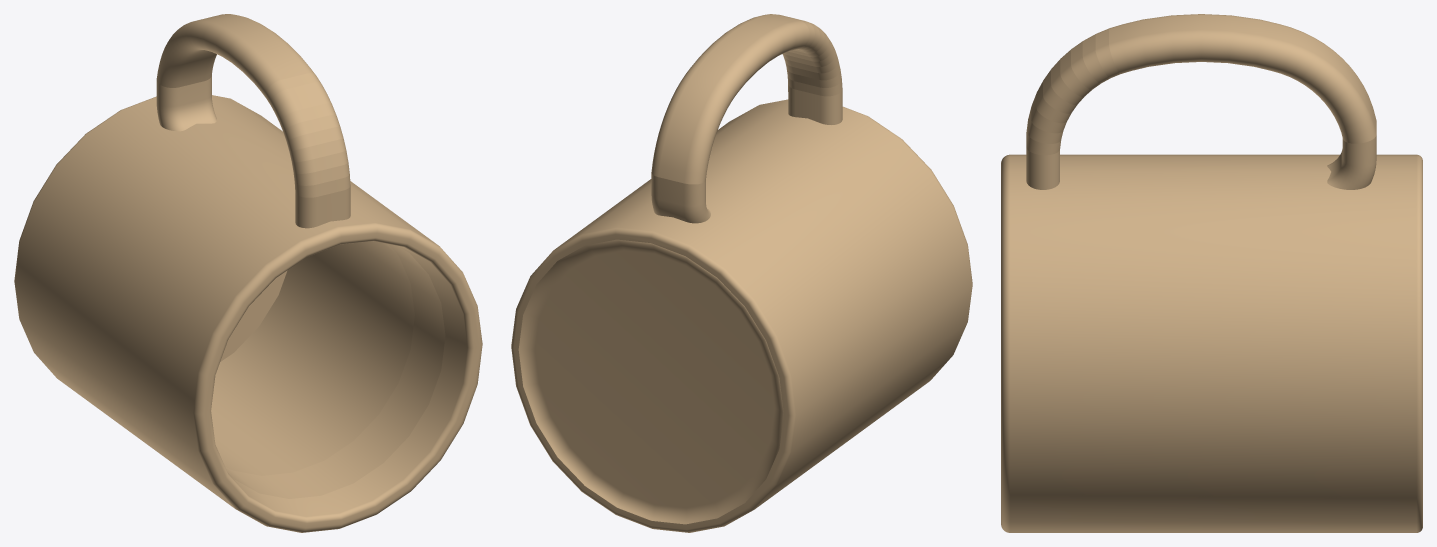
3 views of the same model, side by side, from view 1: azimuth 30°, elevation 25°; view 2: azimuth 150°, elevation 25°; view 3: azimuth 270°, elevation 25° (orthographic). The views are drawn at different scales.
Size of the model in its own units: 0.4829 by 0.6921 by 0.5365.
